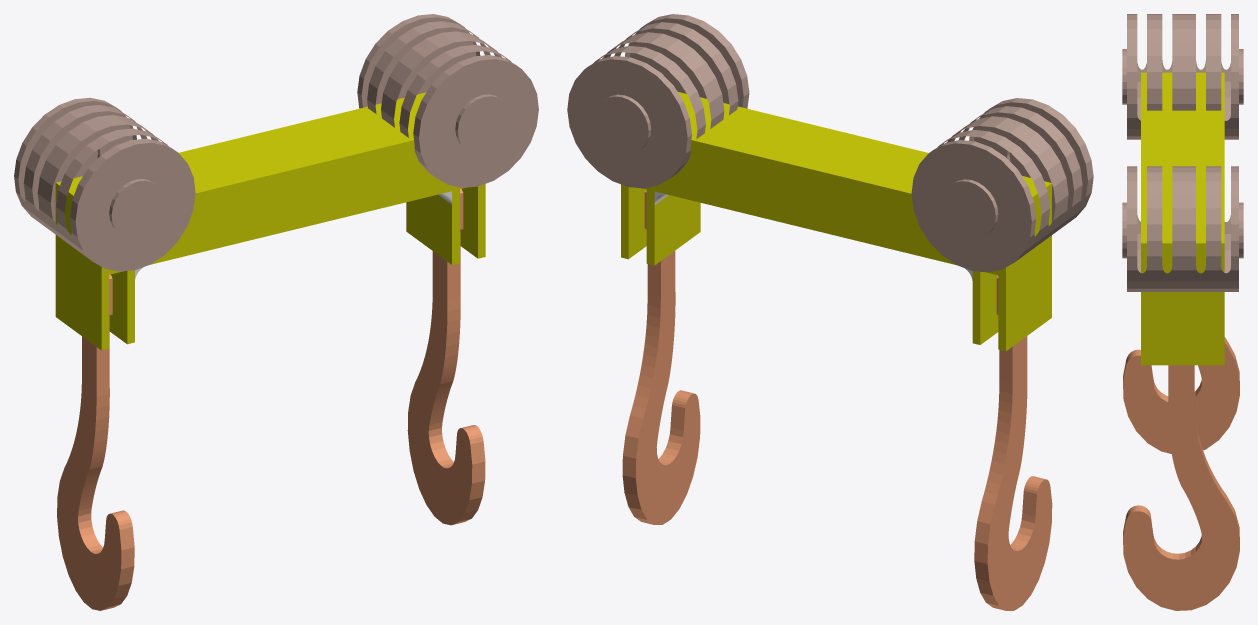
Rendered from cranehooks.dae.
3 renders of one model, left to right at view 1: azimuth 30°, elevation 25°; view 2: azimuth 150°, elevation 25°; view 3: azimuth 270°, elevation 25°, orthographic. The views are drawn at different scales.
Visible parts, largest first — view 1: mesh25-geometry_material1_IndexedFaceSet, mesh62-geometry_material2_IndexedFaceSet, mesh31-geometry_material2_IndexedFaceSet, mesh1-geometry_material0_IndexedFaceSet, mesh34-geometry_material0_IndexedFaceSet, mesh27-geometry_material2_IndexedFaceSet, mesh58-geometry_material2_IndexedFaceSet, mesh50-geometry_material0_IndexedFaceSet, mesh17-geometry_material0_IndexedFaceSet, mesh46-geometry_material0_IndexedFaceSet, mesh13-geometry_material0_IndexedFaceSet, mesh5-geometry_material0_IndexedFaceSet (+5 smaller); view 2: mesh25-geometry_material1_IndexedFaceSet, mesh62-geometry_material2_IndexedFaceSet, mesh31-geometry_material2_IndexedFaceSet, mesh34-geometry_material0_IndexedFaceSet, mesh1-geometry_material0_IndexedFaceSet, mesh29-geometry_material2_IndexedFaceSet, mesh60-geometry_material2_IndexedFaceSet, mesh50-geometry_material0_IndexedFaceSet, mesh17-geometry_material0_IndexedFaceSet, mesh5-geometry_material0_IndexedFaceSet, mesh38-geometry_material0_IndexedFaceSet, mesh54-geometry_material0_IndexedFaceSet (+5 smaller); view 3: mesh25-geometry_material1_IndexedFaceSet, mesh17-geometry_material0_IndexedFaceSet, mesh31-geometry_material2_IndexedFaceSet, mesh62-geometry_material2_IndexedFaceSet, mesh50-geometry_material0_IndexedFaceSet, mesh27-geometry_material2_IndexedFaceSet, mesh29-geometry_material2_IndexedFaceSet, mesh58-geometry_material2_IndexedFaceSet, mesh60-geometry_material2_IndexedFaceSet, mesh13-geometry_material0_IndexedFaceSet, mesh9-geometry_material0_IndexedFaceSet, mesh21-geometry_material0_IndexedFaceSet (+2 smaller).
Boxes of the visible parts, box(x1,y1,x2,y2) form: mesh25-geometry_material1_IndexedFaceSet: box(55, 92, 485, 350); mesh62-geometry_material2_IndexedFaceSet: box(14, 97, 195, 271); mesh31-geometry_material2_IndexedFaceSet: box(357, 14, 538, 187); mesh1-geometry_material0_IndexedFaceSet: box(407, 251, 474, 525); mesh34-geometry_material0_IndexedFaceSet: box(57, 336, 123, 610); mesh27-geometry_material2_IndexedFaceSet: box(455, 94, 510, 152); mesh58-geometry_material2_IndexedFaceSet: box(109, 179, 164, 237); mesh50-geometry_material0_IndexedFaceSet: box(89, 274, 134, 607); mesh17-geometry_material0_IndexedFaceSet: box(439, 189, 485, 522); mesh46-geometry_material0_IndexedFaceSet: box(86, 277, 132, 608); mesh13-geometry_material0_IndexedFaceSet: box(437, 191, 483, 522); mesh5-geometry_material0_IndexedFaceSet: box(431, 263, 476, 524); mesh25-geometry_material1_IndexedFaceSet: box(621, 92, 1051, 351); mesh62-geometry_material2_IndexedFaceSet: box(911, 98, 1093, 272); mesh31-geometry_material2_IndexedFaceSet: box(567, 14, 749, 188); mesh34-geometry_material0_IndexedFaceSet: box(985, 336, 1052, 610); mesh1-geometry_material0_IndexedFaceSet: box(633, 251, 700, 524); mesh29-geometry_material2_IndexedFaceSet: box(595, 94, 651, 153); mesh60-geometry_material2_IndexedFaceSet: box(942, 179, 998, 238); mesh50-geometry_material0_IndexedFaceSet: box(974, 275, 1034, 607); mesh17-geometry_material0_IndexedFaceSet: box(622, 189, 682, 522); mesh5-geometry_material0_IndexedFaceSet: box(631, 263, 691, 524); mesh38-geometry_material0_IndexedFaceSet: box(983, 348, 1043, 610); mesh54-geometry_material0_IndexedFaceSet: box(981, 350, 1040, 609); mesh25-geometry_material1_IndexedFaceSet: box(1141, 72, 1224, 365); mesh17-geometry_material0_IndexedFaceSet: box(1123, 365, 1239, 610); mesh31-geometry_material2_IndexedFaceSet: box(1127, 166, 1238, 291); mesh62-geometry_material2_IndexedFaceSet: box(1127, 14, 1238, 139); mesh50-geometry_material0_IndexedFaceSet: box(1123, 342, 1239, 453); mesh27-geometry_material2_IndexedFaceSet: box(1122, 202, 1126, 258); mesh29-geometry_material2_IndexedFaceSet: box(1239, 202, 1243, 258); mesh58-geometry_material2_IndexedFaceSet: box(1122, 49, 1126, 104); mesh60-geometry_material2_IndexedFaceSet: box(1239, 49, 1243, 104); mesh13-geometry_material0_IndexedFaceSet: box(1123, 407, 1239, 558); mesh9-geometry_material0_IndexedFaceSet: box(1123, 406, 1239, 557); mesh21-geometry_material0_IndexedFaceSet: box(1123, 405, 1239, 556).
Size of the model in its own units: 5.24 by 5.2 by 1.31.
